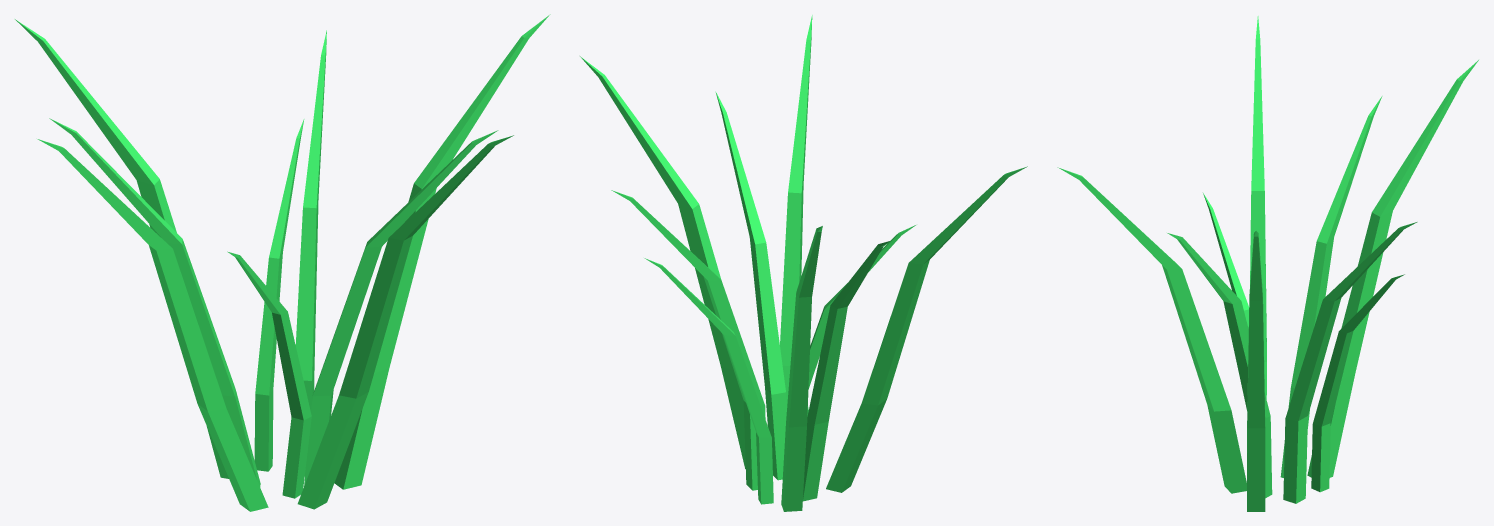
Rendered from Grama_1.fbx.
3 views of the same model, side by side, from view 1: azimuth 30°, elevation 25°; view 2: azimuth 150°, elevation 25°; view 3: azimuth 270°, elevation 25° (orthographic). The views are drawn at different scales.
Visible parts, largest first — view 1: Grama; view 2: Grama; view 3: Grama.
Part boxes in pixels (bbox=[...]): Grama: bbox=[15, 14, 550, 511]; Grama: bbox=[580, 15, 1027, 511]; Grama: bbox=[1057, 16, 1478, 511].
Bounding box in the file's own units: 1.09 × 0.8518 × 0.8982.
